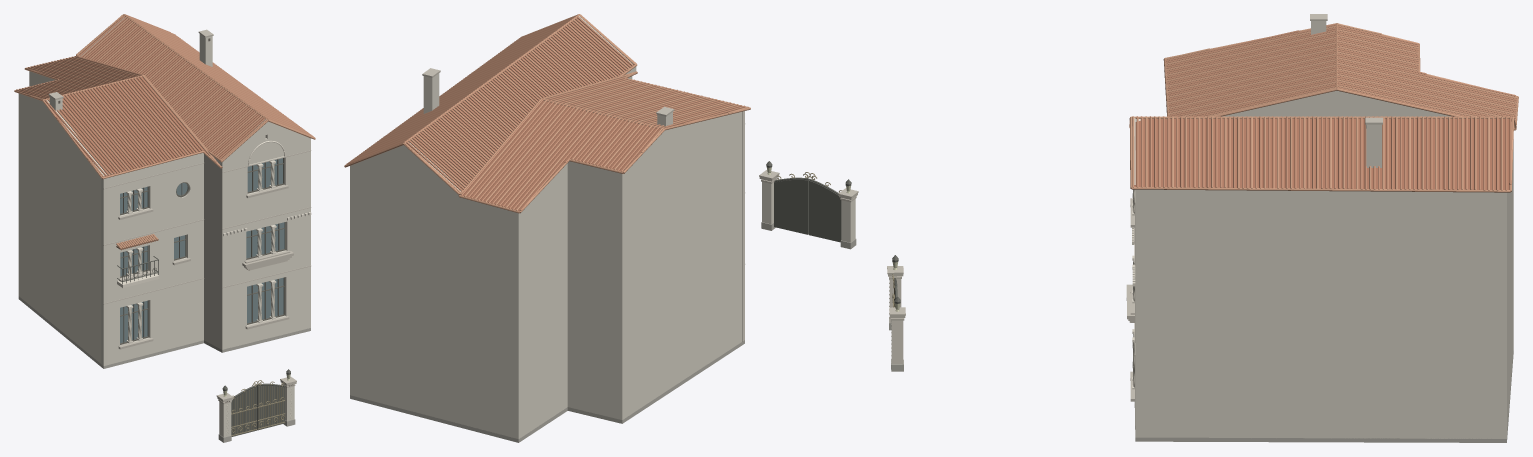
Rendered from xuhui-yicun-no2-street-front-web.glb.
The picture shows the model from 3 angles, left to right: view 1: azimuth 30°, elevation 25°; view 2: azimuth 150°, elevation 25°; view 3: azimuth 270°, elevation 25°; orthographic projection. The views are drawn at different scales.
Visible parts, largest first — view 1: 逸村2号淮海中路园侧立面; view 2: 逸村2号淮海中路园侧立面; view 3: 逸村2号淮海中路园侧立面.
Boxes of the visible parts, x1=… form: 逸村2号淮海中路园侧立面: x1=14, y1=14, x2=315, y2=442; 逸村2号淮海中路园侧立面: x1=344, y1=14, x2=858, y2=442; 逸村2号淮海中路园侧立面: x1=887, y1=14, x2=1518, y2=442.
Size of the model in its own units: 11.63 by 12.86 by 23.6.
